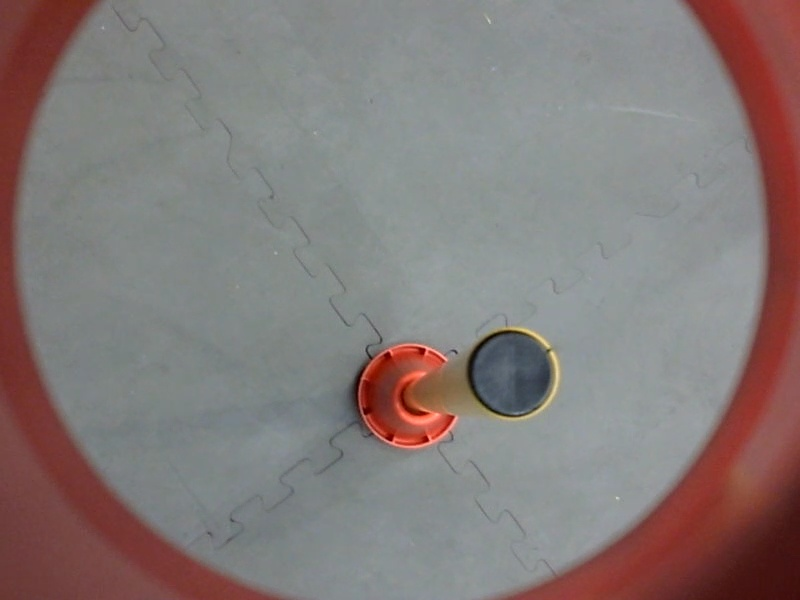tip: (457, 314, 568, 431)
